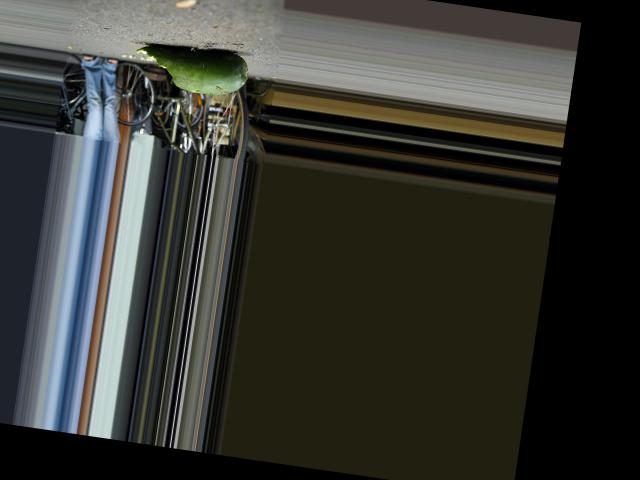cucumber: (129, 38, 250, 99)
